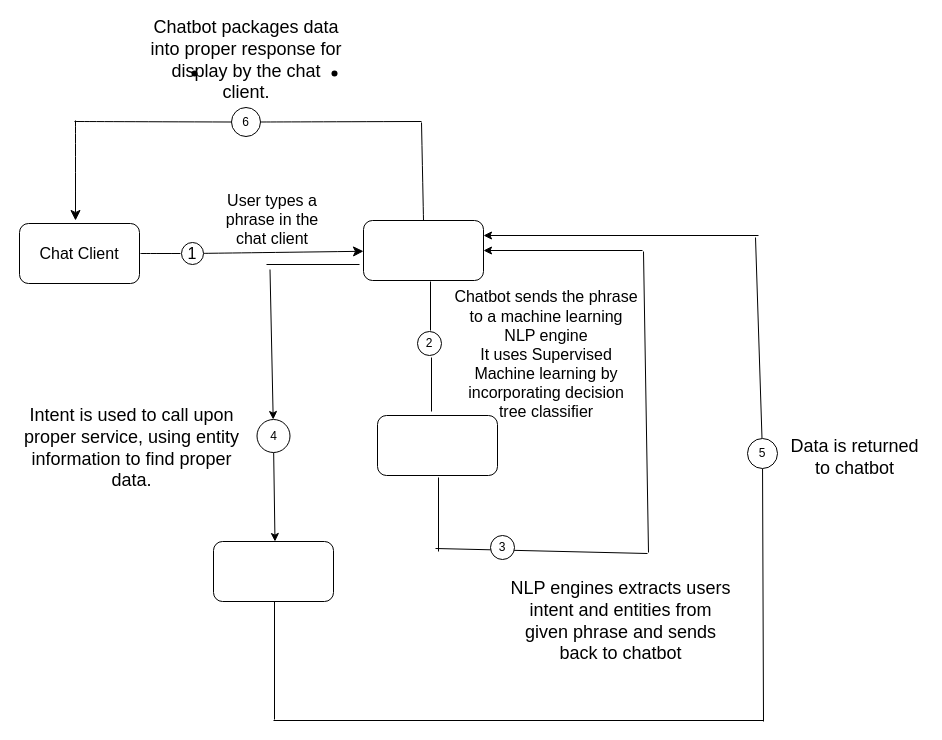
This 942x740 diagram has some shape labels left out. Here are the shapes that lost their labels. From the top down, the centre of each, then its label:
At point (423, 250): "Chat Bot".
At point (437, 445): "Natural Language Processing".
At point (273, 571): "Data Services".
